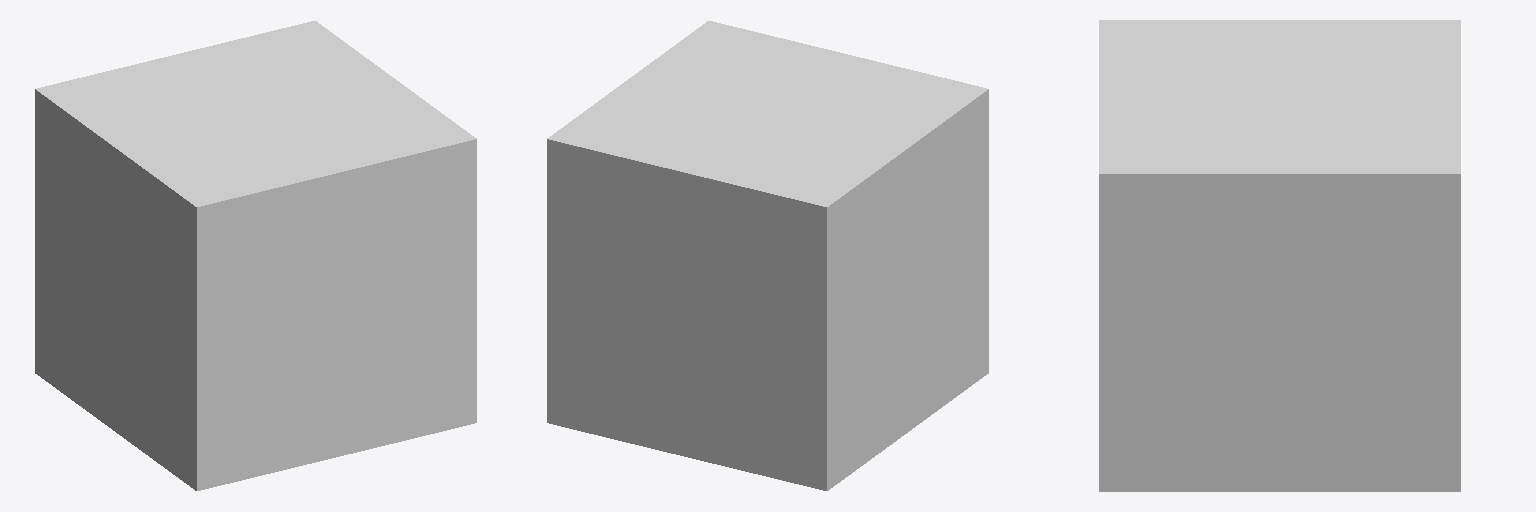
robot.urdf — astrobee:
<?xml version="1.0" ?>
<!-- =================================================================================== -->
<!-- |    This document was autogenerated by xacro from description/urdf/model.urdf.xacro | -->
<!-- |    EDITING THIS FILE BY HAND IS NOT RECOMMENDED                                 | -->
<!-- =================================================================================== -->
<!-- Copyright (c) 2017, United States Government, as represented by the     -->
<!-- Administrator of the National Aeronautics and Space Administration.     -->
<!--                                                                         -->
<!-- All rights reserved.                                                    -->
<!--                                                                         -->
<!-- The Astrobee platform is licensed under the Apache License, Version 2.0 -->
<!-- (the "License"); you may not use this file except in compliance with    -->
<!-- the License. You may obtain a copy of the License at                    -->
<!--                                                                         -->
<!--     http://www.apache.org/licenses/LICENSE-2.0                          -->
<!--                                                                         -->
<!-- Unless required by applicable law or agreed to in writing, software     -->
<!-- distributed under the License is distributed on an "AS IS" BASIS,       -->
<!-- WITHOUT WARRANTIES OR CONDITIONS OF ANY KIND, either express or         -->
<!-- implied. See the License for the specific language governing            -->
<!-- permissions and limitations under the License.                          -->
<robot name="astrobee">
  <!-- BASE GEOMETRY -->
  <link name="/reference/body">
    <self_collide>false</self_collide>
    <!-- body -->
    <visual name="body_bounding_box">
      <origin rpy="0 0 0" xyz="-0.000794 0.000229 -0.003907"/>
      <geometry>
        <box size="0.290513 0.290513 0.281129"/>
      </geometry>
      <material name="Cyan">
        <color rgba=".9 .9 .9 0.5"/>
      </material>
   </visual>
    <!-- <visual name="body_visual">
      <origin rpy="0 0 0" xyz="0 0 0"/>
      <geometry>
        <mesh filename="file://[local-path]/Projects/EQTrackingControl/ros2_ws/src/trajectory_visualization/description/meshes/body.dae"/>
      </geometry>
    </visual> -->
    <collision name="body_collision">
      <origin rpy="0 0 0" xyz="-0.000794 0.000229 -0.003907"/>
      <geometry>
        <box size="0.290513 0.151942 0.281129"/>
      </geometry>
    </collision>
    <!-- port pmc -->
    <!-- <visual name="pmc_port_visual">
      <origin rpy="0 0 0" xyz="0 0 0"/>
      <geometry>
        <mesh filename="file://[local-path]/Projects/EQTrackingControl/ros2_ws/src/trajectory_visualization/description/meshes/pmc.dae"/>
      </geometry>
    </visual>
    <visual name="pmc_port_bumper_visual">
      <origin rpy="0 0 0" xyz="0 0 0"/>
      <geometry>
        <mesh filename="file://[local-path]/Projects/EQTrackingControl/ros2_ws/src/trajectory_visualization/description/meshes/pmc_bumper.dae"/>
      </geometry>
    </visual>
    <visual name="pmc_port_skin_visual">
      <origin rpy="0 0 0" xyz="0 0 0"/>
      <geometry>
        <mesh filename="file://[local-path]/Projects/EQTrackingControl/ros2_ws/src/trajectory_visualization/description/meshes/pmc_skin_bumble.dae"/>
      </geometry>
    </visual> -->
    <collision name="pmc_port_collision">
      <origin rpy="0 0 0" xyz="0 -0.117546 0"/>
      <geometry>
        <box size="0.319199 0.083962 0.319588"/>
      </geometry>
    </collision>
    <!-- starboard pmc -->
    <!-- <visual name="pmc_stbd_visual">
      <origin rpy="0 3.14 3.14" xyz="0 0 0"/>
      <geometry>
        <mesh filename="file://[local-path]/Projects/EQTrackingControl/ros2_ws/src/trajectory_visualization/description/meshes/pmc.dae"/>
      </geometry>
    </visual>
    <visual name="pmc_stbd_bumper_visual">
      <origin rpy="0 3.14 3.14" xyz="0 0 0"/>
      <geometry>
        <mesh filename="file://[local-path]/Projects/EQTrackingControl/ros2_ws/src/trajectory_visualization/description/meshes/pmc_bumper.dae"/>
      </geometry>
    </visual>
    <visual name="pmc_stbd_skin_visual">
      <origin rpy="0 3.14 3.14" xyz="0 0 0"/>
      <geometry>
        <mesh filename="file://[local-path]/Projects/EQTrackingControl/ros2_ws/src/trajectory_visualization/description/meshes/pmc_skin_bumble.dae"/>
      </geometry>
    </visual> -->
    <collision name="pmc_stbd_collision">
      <origin rpy="0 0 0" xyz="0 0.117546 0"/>
      <geometry>
        <box size="0.319199 0.083962 0.319588"/>
      </geometry>
    </collision>
  </link>
  <gazebo>
    <plugin filename="libgazebo_model_plugin_drag.so" name="drag_ros">
      &gt;
      
      <namespace>/bumble/</namespace>
      <coefficient>1.05</coefficient>
      <!-- Drag coefficient -->
      <area>0.092903</area>
      <!-- Surface area     -->
      <density>1.225</density>
      <!-- Air density      -->
    </plugin>
  </gazebo>
  <gazebo>
    <plugin filename="libgazebo_model_plugin_pmc.so" name="pmc_ros">
      <namespace>/bumble/</namespace>
      <rate>62.5</rate>
      <bypass_blower_model>false</bypass_blower_model>
    </plugin>
  </gazebo>
  <gazebo>
    <plugin filename="libgazebo_model_plugin_eps.so" name="eps_ros">
      &gt;
      
      <namespace>/bumble/</namespace>
      <rate>10.0</rate>
      <!-- Rate at which dock state checked  -->
      <distance_near>0.04</distance_near>
      <!-- Threshold distance for magnetism  -->
      <distance_far>0.05</distance_far>
      <!-- Threshold distance for magnetism  -->
      <delay>5.0</delay>
      <!-- Delay between contact and docking -->
      <battery_top_left>true</battery_top_left>
      <battery_top_right>true</battery_top_right>
      <battery_bottom_left>false</battery_bottom_left>
      <battery_bottom_right>false</battery_bottom_right>
    </plugin>
  </gazebo>
  <gazebo>
    <plugin filename="libgazebo_model_plugin_truth.so" name="truth_ros">
      <namespace>/bumble/</namespace>
      <rate>62.5</rate>
      <parent>world</parent>
      <child>truth</child>
      <tf>true</tf>
      <pose>true</pose>
      <twist>true</twist>
      <static>false</static>
    </plugin>
  </gazebo>
  <gazebo>
    <plugin filename="libgazebo_model_plugin_laser.so" name="laser_ros">
      <namespace>/bumble/</namespace>
      <rate>10.0</rate>
      <range>5.0</range>
      <width>0.0025</width>
    </plugin>
  </gazebo>
  <gazebo>
    <plugin filename="libgazebo_model_plugin_flashlight.so" name="flashlight_front_ros">
      <namespace>/bumble/</namespace>
      <plugin_name>flashlight_front</plugin_name>
      <plugin_frame>flashlight_front</plugin_frame>
      <rate>10.0</rate>
      <width>0.02</width>
      <height>0.02</height>
      <depth>0.03</depth>
    </plugin>
    <plugin filename="libgazebo_model_plugin_flashlight.so" name="flashlight_aft_ros">
      <namespace>/bumble/</namespace>
      <plugin_name>flashlight_aft</plugin_name>
      <plugin_frame>flashlight_aft</plugin_frame>
      <rate>10.0</rate>
      <width>0.02</width>
      <height>0.02</height>
      <depth>0.03</depth>
    </plugin>
  </gazebo>
  <gazebo>
    <plugin filename="libgazebo_model_plugin_speed_cam.so" name="speed_cam_ros">
      <namespace>/bumble/</namespace>
    </plugin>
  </gazebo>
  <gazebo>
    <plugin filename="libgazebo_model_plugin_signal_lights.so" name="signal_lights_ros">
      <namespace>/bumble/</namespace>
    </plugin>
  </gazebo>
  <gazebo>
    <plugin filename="libgazebo_model_plugin_llp_disk_monitor.so" name="llp_disk_monitor">
      <namespace>/bumble/</namespace>
    </plugin>
    <plugin filename="libgazebo_model_plugin_llp_cpu_mem_monitor.so" name="llp_cpu_mem_monitor">
      <namespace>/bumble/</namespace>
    </plugin>
    <plugin filename="libgazebo_model_plugin_mlp_disk_monitor.so" name="mlp_disk_monitor">
      <namespace>/bumble/</namespace>
    </plugin>
    <plugin filename="libgazebo_model_plugin_mlp_cpu_mem_monitor.so" name="mlp_cpu_mem_monitor">
      <namespace>/bumble/</namespace>
    </plugin>
  </gazebo>
  <gazebo reference="/reference/body">
    <sensor name="imu" type="imu">
      <pose>0 0 0 0 0 0</pose>
      <always_on>true</always_on>
      <update_rate>62.5</update_rate>
      <visualize>0</visualize>
      <plugin filename="libgazebo_sensor_plugin_imu.so" name="sensor_imu_ros">
        <namespace>/bumble/</namespace>
      </plugin>
    </sensor>
  </gazebo>
  <gazebo reference="/reference/body">
    <sensor name="nav_cam" type="wideanglecamera">
      <pose>0 0 0 0 0 0</pose>
      <always_on>true</always_on>
      <update_rate>0.0001</update_rate>
      <camera>
        <horizontal_fov>2.957216683909311</horizontal_fov>
        <image>
          <width>320</width>
          <height>240</height>
          <format>L8</format>
        </image>
        <clip>
          <near>0.1</near>
          <far>20</far>
        </clip>
        <distortion>
          <k1>0.993308</k1>
        </distortion>
      </camera>
      <plugin filename="libgazebo_sensor_plugin_nav_cam.so" name="nav_cam_ros">
        <namespace>/bumble/</namespace>
      </plugin>
      <plugin filename="libgazebo_sensor_plugin_sparse_map.so" name="sparse_map_ros">
        <namespace>/bumble/</namespace>
      </plugin>
      <plugin filename="libgazebo_sensor_plugin_optical_flow.so" name="optical_flow_ros">
        <namespace>/bumble/</namespace>
      </plugin>
    </sensor>
  </gazebo>
  <gazebo reference="/reference/body">
    <sensor name="dock_cam" type="wideanglecamera">
      <pose>0 0 0 0 0 0</pose>
      <always_on>true</always_on>
      <update_rate>0.0001</update_rate>
      <camera>
        <horizontal_fov>2.87507641955055</horizontal_fov>
        <image>
          <width>320</width>
          <height>240</height>
          <format>L8</format>
        </image>
        <clip>
          <near>0.1</near>
          <far>20</far>
        </clip>
        <distortion>
          <k1>1.0049199133284734</k1>
        </distortion>
      </camera>
      <plugin filename="libgazebo_sensor_plugin_dock_cam.so" name="dock_cam_ros">
        <namespace>/bumble/</namespace>
      </plugin>
      <plugin filename="libgazebo_sensor_plugin_ar_tags.so" name="ar_tags_ros">
        <namespace>/bumble/</namespace>
      </plugin>
    </sensor>
  </gazebo>
  <gazebo reference="/reference/body">
    <sensor name="haz_cam" type="depth">
      <pose>0 0 0 0 0 0</pose>
      <always_on>true</always_on>
      <update_rate>1</update_rate>
      <camera>
        <horizontal_fov>1.0821</horizontal_fov>
        <!-- 62 degrees -->
        <image>
          <width>224</width>
          <height>171</height>
          <format>L8</format>
        </image>
        <clip>
          <near>0.2</near>
          <far>4</far>
        </clip>
        <depth_camera>
          <output>points</output>
        </depth_camera>
      </camera>
      <plugin filename="libgazebo_sensor_plugin_haz_cam.so" name="haz_cam_ros">
        <namespace>/bumble/</namespace>
      </plugin>
    </sensor>
  </gazebo>
  <gazebo reference="/reference/body">
    <sensor name="perch_cam" type="depth">
      <pose>0 0 0 0 0 0</pose>
      <always_on>true</always_on>
      <update_rate>1</update_rate>
      <camera>
        <horizontal_fov>1.0821</horizontal_fov>
        <!-- 62 degrees -->
        <image>
          <width>224</width>
          <height>171</height>
          <format>L8</format>
        </image>
        <clip>
          <near>0.2</near>
          <far>4</far>
        </clip>
        <depth_camera>
          <output>points</output>
        </depth_camera>
      </camera>
      <plugin filename="libgazebo_sensor_plugin_perch_cam.so" name="perch_cam_ros">
        <namespace>/bumble/</namespace>
      </plugin>
    </sensor>
  </gazebo>
</robot>

--- Render facts (derived) ---
Views: 3 orthographic renders of the robot side by side, from view 1: azimuth 30°, elevation 25°; view 2: azimuth 150°, elevation 25°; view 3: azimuth 270°, elevation 25°.
Model astrobee with 1 links and 0 joints (none), rooted at /reference/body, posed all joints at 0.
Links seen in each view (by area): view 1: /reference/body; view 2: /reference/body; view 3: /reference/body.
Link boxes in pixels (box(x1,y1,x2,y2)): /reference/body: box(35, 21, 476, 490); /reference/body: box(547, 21, 988, 490); /reference/body: box(1099, 20, 1460, 491).
Bounding box of the posed robot: 0.2905 × 0.2905 × 0.2811 m (x, y, z).
Geometry: primitives only (box / cylinder / sphere), no mesh files.